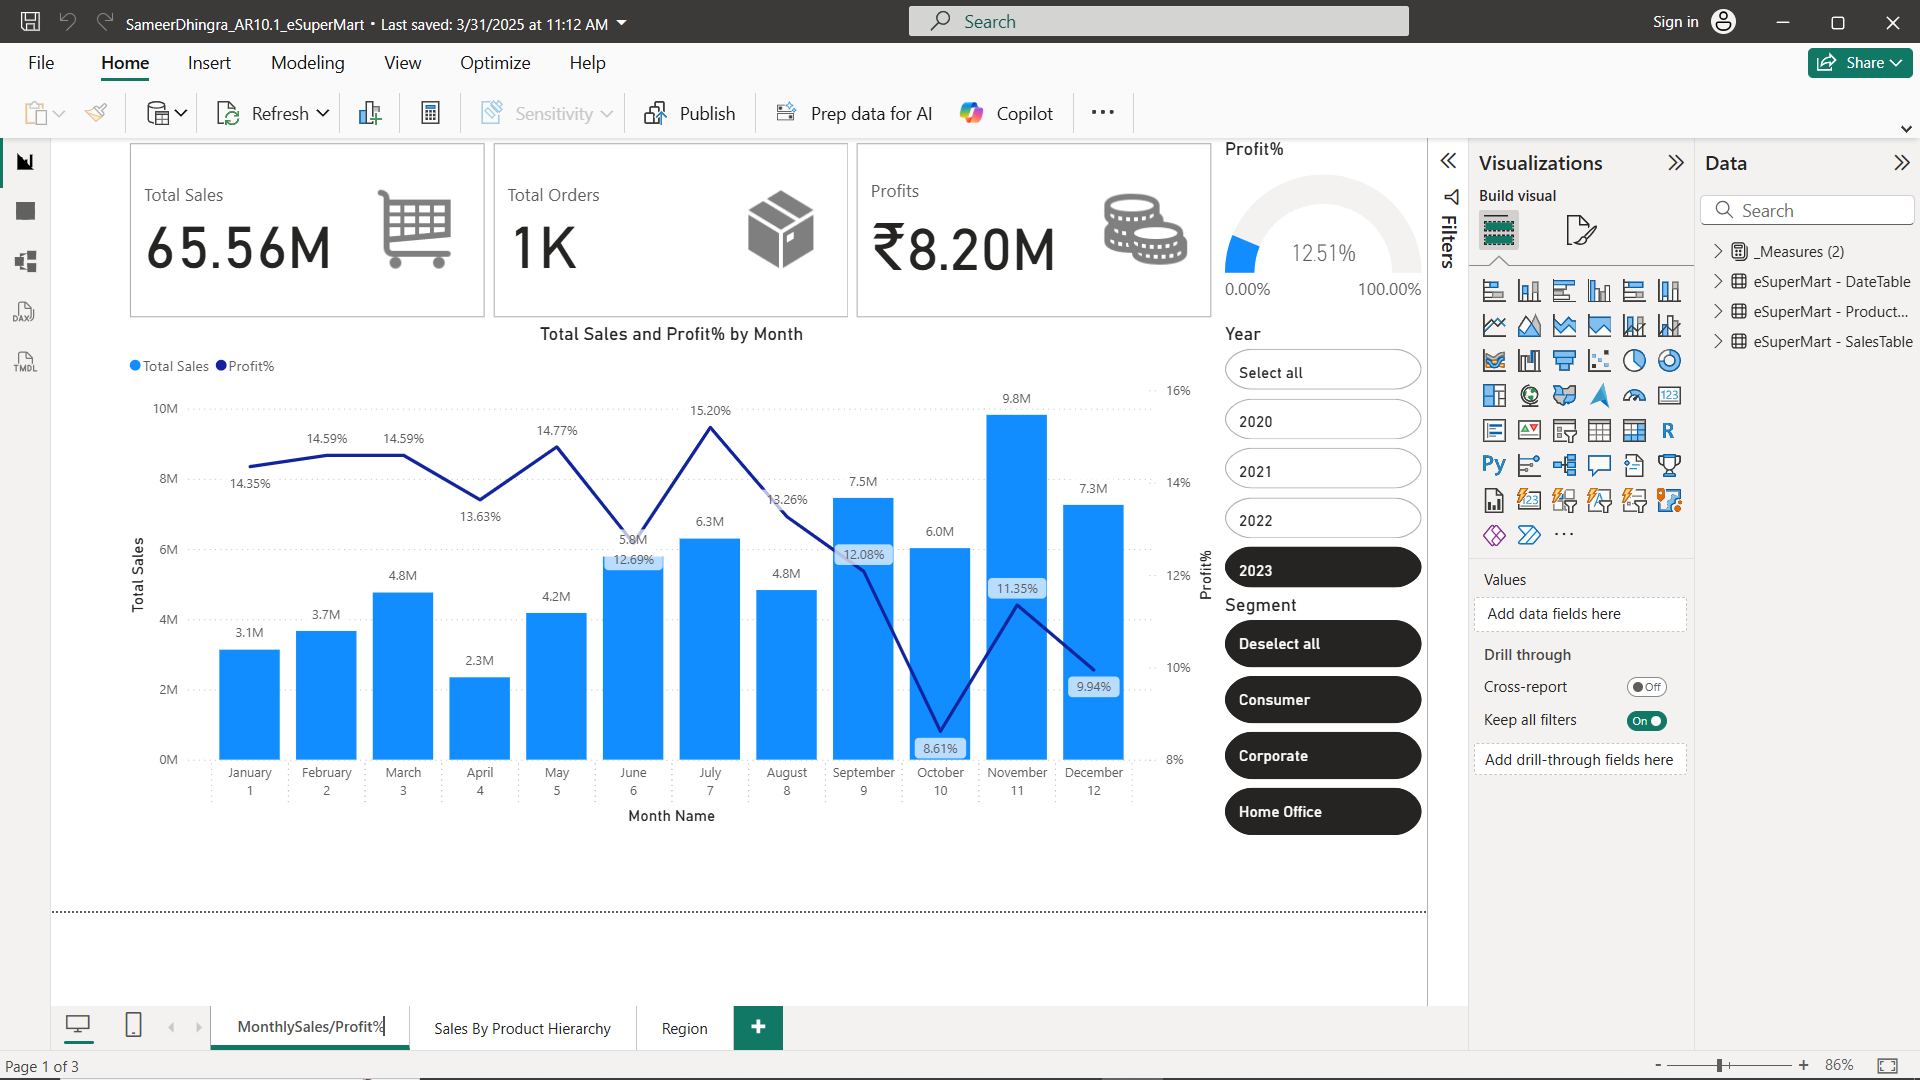

Layout of this report page (visuals, bound fields, positions):
{"tool":"powerbi","page":{"name":"MonthlySales/Profit%","canvas":[1280,720],"ordinal":0},"visuals":[{"type":"cardVisual","fields":{"Data":["_Measures (2).Total Sales","_Measures (2).Total Orders","_Measures (2).Profits"]},"box":[68.6,0,1018.6,172.1],"z":0},{"type":"gauge","fields":{"Y":["_Measures (2).Profit%"]},"box":[1087.2,0,193,172.1],"z":1000},{"type":"lineStackedColumnComboChart","title":"Total Sales and Profit% by Month","fields":{"Category":["eSuperMart - DateTable.Month","eSuperMart - DateTable.Month Name"],"Y":["_Measures (2).Total Sales"],"Y2":["_Measures (2).Profit%"]},"box":[67.4,172.1,1019.8,470.9],"z":2000},{"type":"advancedSlicerVisual","fields":{"Values":["eSuperMart - DateTable.Year"]},"box":[1087.2,172.1,193,252.3],"z":3000},{"type":"advancedSlicerVisual","fields":{"Values":["eSuperMart - SalesTable.Segment"]},"box":[1087.2,424.4,193,230.2],"z":4000}]}

Visuals, with their boxes on the page's 1280x720 design canvas (x1, y1, x2, y2). These are canvas units, not pixel positions in the 1920x1080 screenshot, which may show the page scaled, cropped or inside an application window:
cardVisual - _Measures (2).Total Sales x _Measures (2).Total Orders: <box>69,0,1087,172</box>
gauge - _Measures (2).Profit%: <box>1087,0,1280,172</box>
"Total Sales and Profit% by Month" lineStackedColumnComboChart: <box>67,172,1087,643</box>
advancedSlicerVisual - eSuperMart - DateTable.Year: <box>1087,172,1280,424</box>
advancedSlicerVisual - eSuperMart - SalesTable.Segment: <box>1087,424,1280,655</box>
